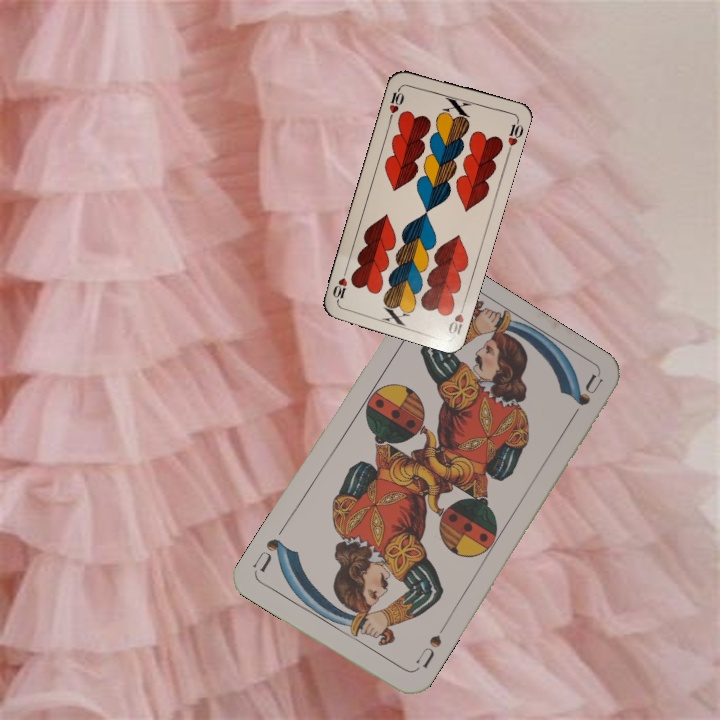H10: (444, 298, 468, 337), (385, 82, 407, 122)
SU: (410, 622, 448, 675)
